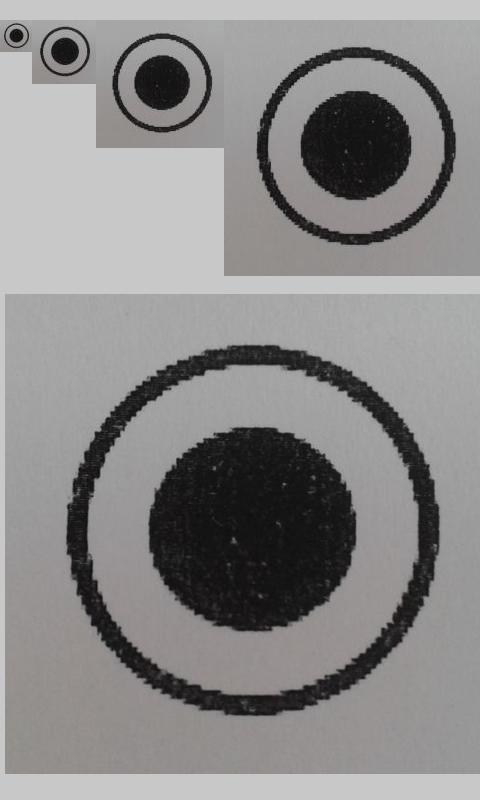radio_button: (65, 345, 443, 717), (255, 46, 458, 245), (112, 33, 213, 133), (40, 26, 90, 77), (4, 23, 29, 49)
